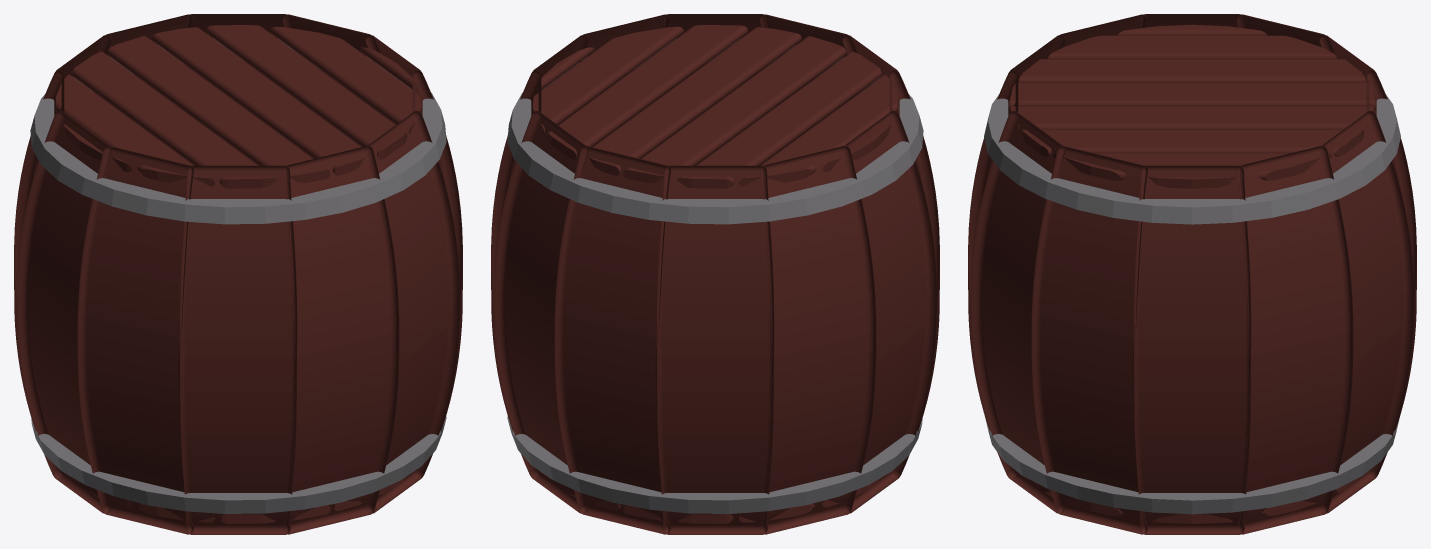
Rendered from Barrel.fbx.
The picture shows the model from 3 angles, left to right: view 1: azimuth 30°, elevation 25°; view 2: azimuth 150°, elevation 25°; view 3: azimuth 270°, elevation 25°; orthographic projection.
Parts seen in each view (by area): view 1: Tour-Tonneau, Couvercle, Barre-Métal; view 2: Tour-Tonneau, Couvercle, Barre-Métal; view 3: Tour-Tonneau, Couvercle, Barre-Métal.
Boxes of the visible parts, x1=… form: Tour-Tonneau: x1=14, y1=14, x2=462, y2=534; Couvercle: x1=55, y1=25, x2=421, y2=523; Barre-Métal: x1=30, y1=38, x2=446, y2=513; Tour-Tonneau: x1=491, y1=14, x2=939, y2=534; Couvercle: x1=532, y1=25, x2=898, y2=523; Barre-Métal: x1=507, y1=38, x2=923, y2=513; Tour-Tonneau: x1=968, y1=14, x2=1416, y2=534; Couvercle: x1=1009, y1=24, x2=1375, y2=523; Barre-Métal: x1=984, y1=95, x2=1400, y2=514.
Size of the model in its own units: 516 by 516 by 466.
